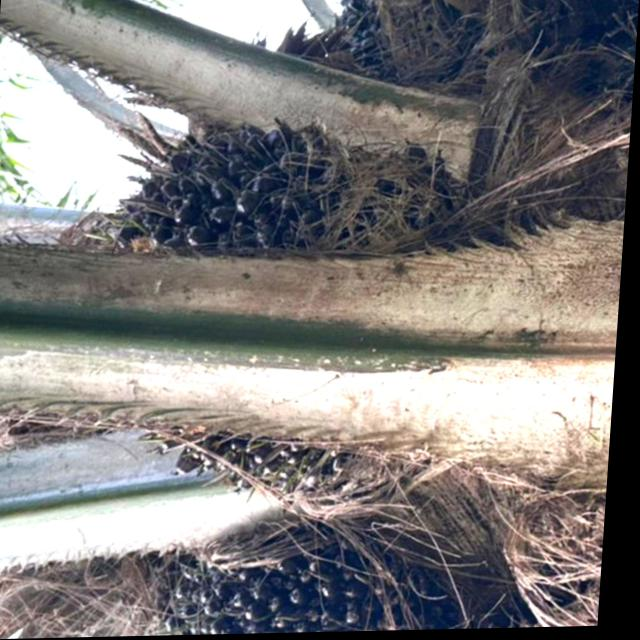almost: (69, 115, 448, 505), (158, 524, 445, 637)
